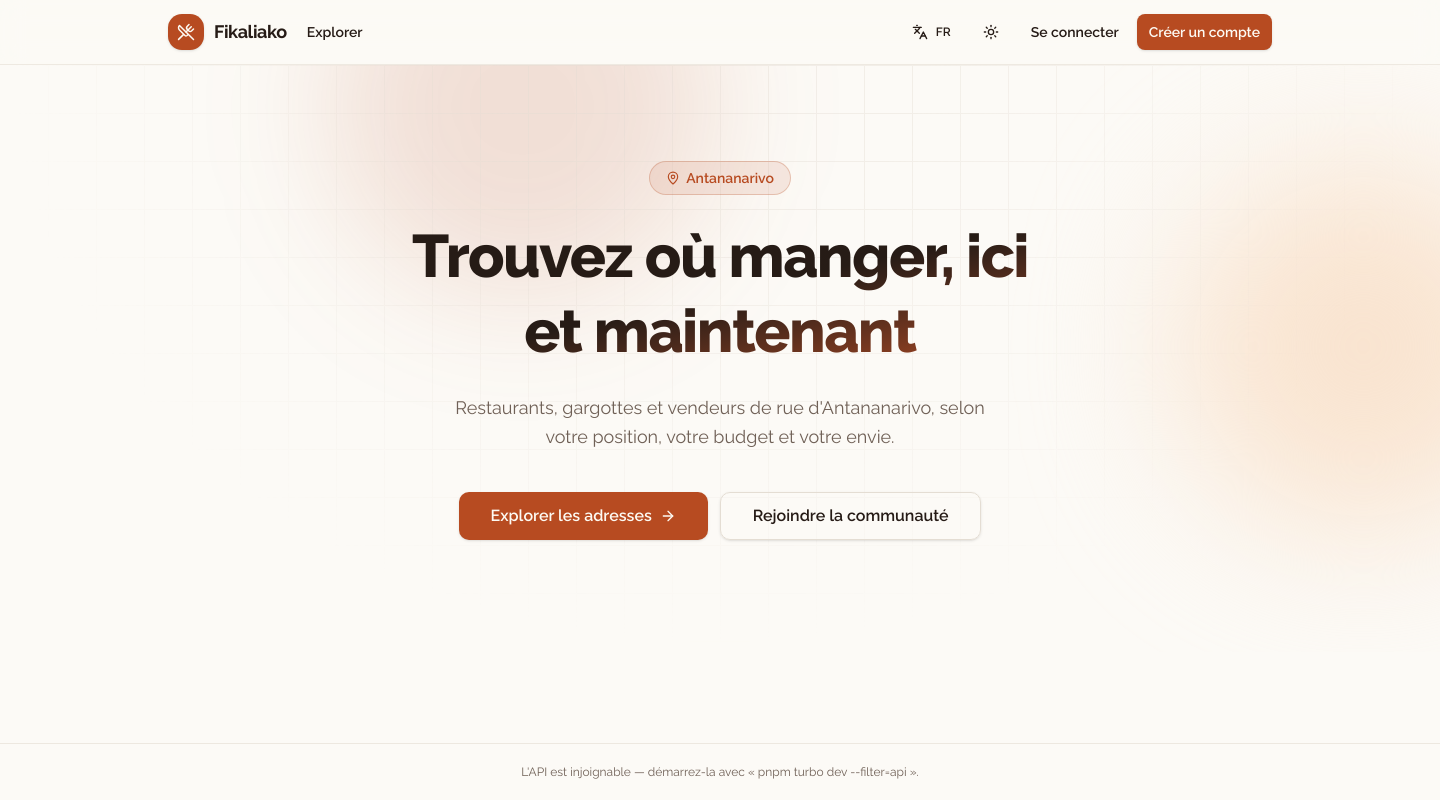
Test: landing page › falls back to French for untranslated Malagasy keys
What coordinates should you click on to do the following:
click the button with aria-label "Langue"
I would click on:
 (932, 32)
Its box is [900,14,963,50].
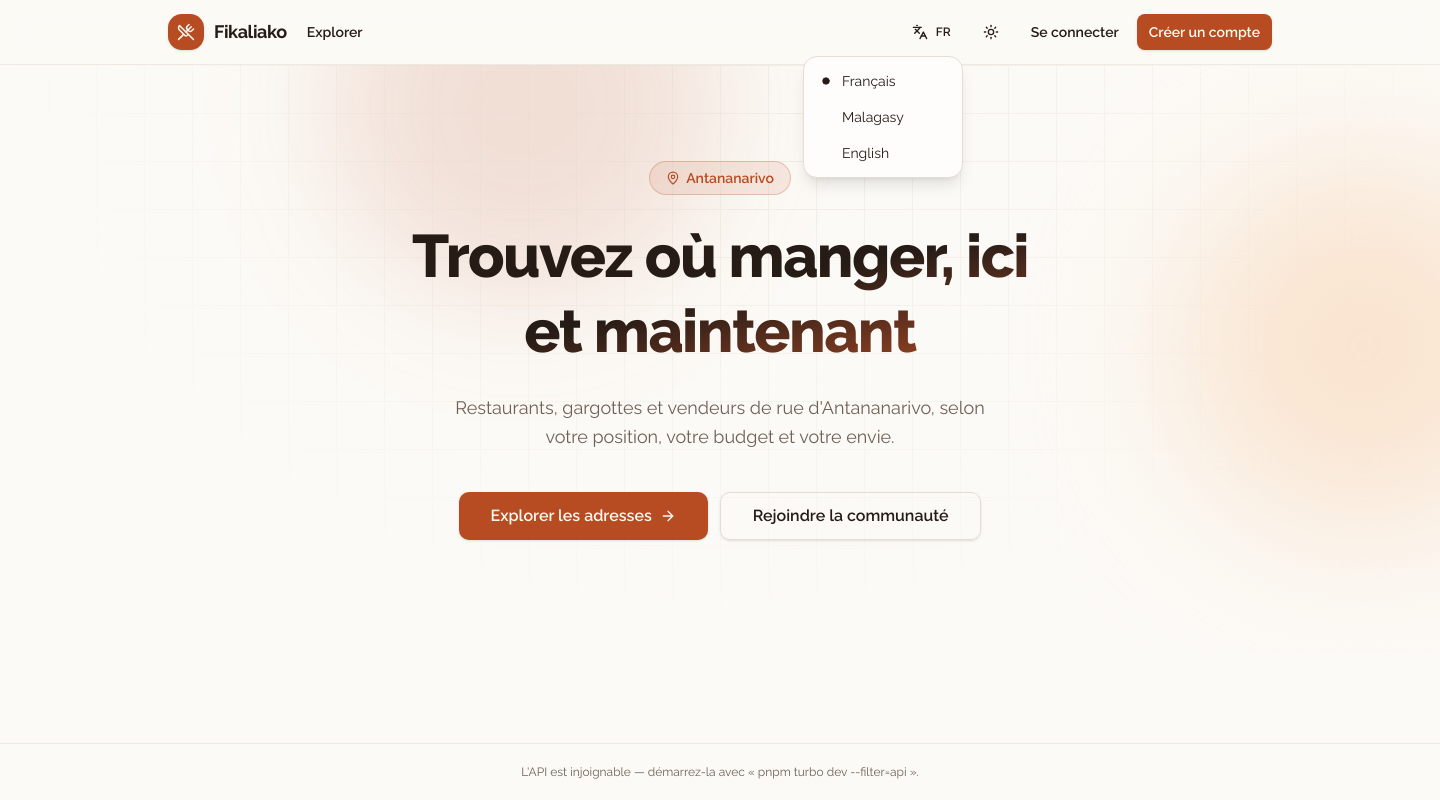
What coordinates should you click on to do the following:
click the menu item "Malagasy"
I would click on:
 (873, 117)
Its box is [842,109,904,125].
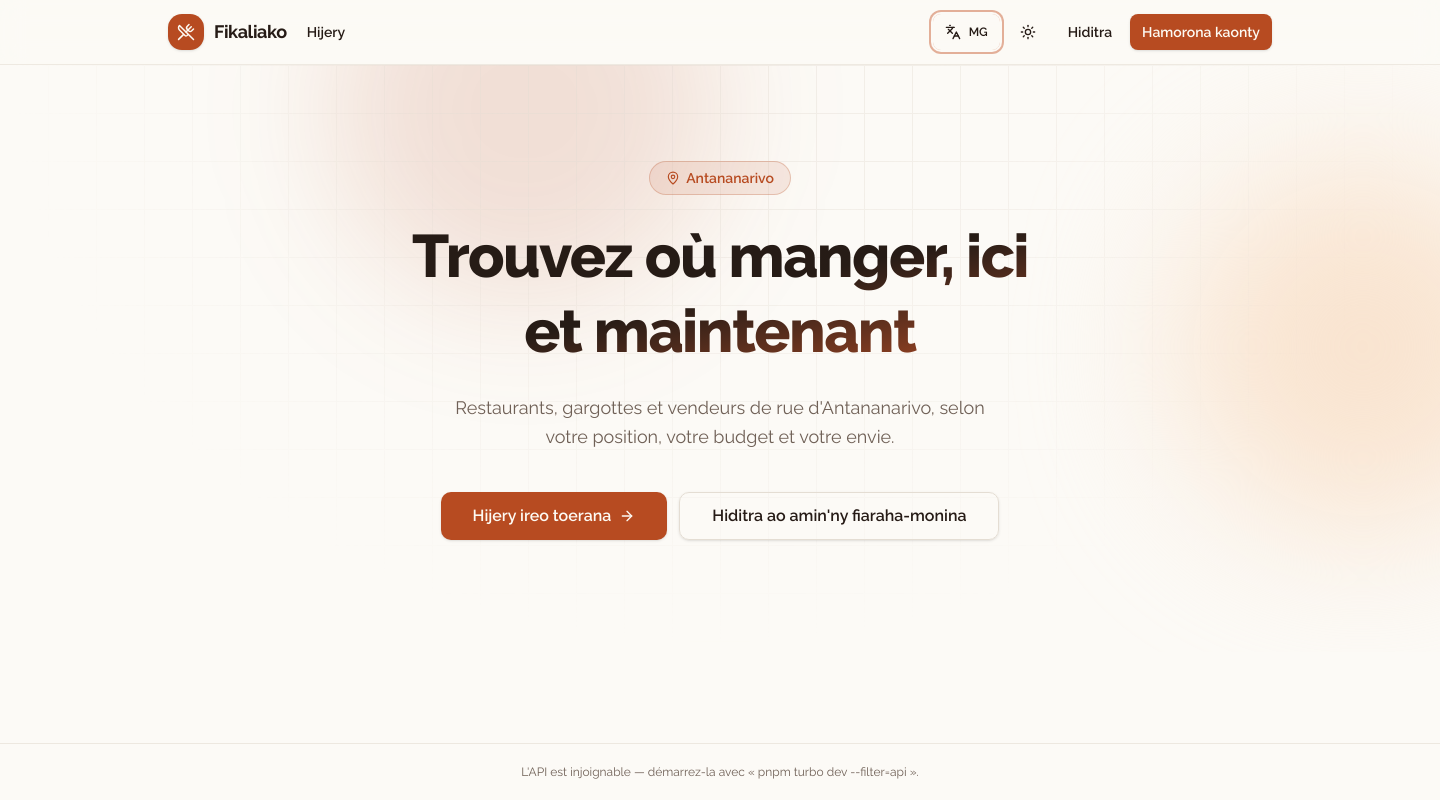
Expected: the heading "Trouvez où manger, ici et maintenant" is shown, [384,219,1056,369]
Expected: the link "Hiditra" is shown, [1068,24,1112,40]
